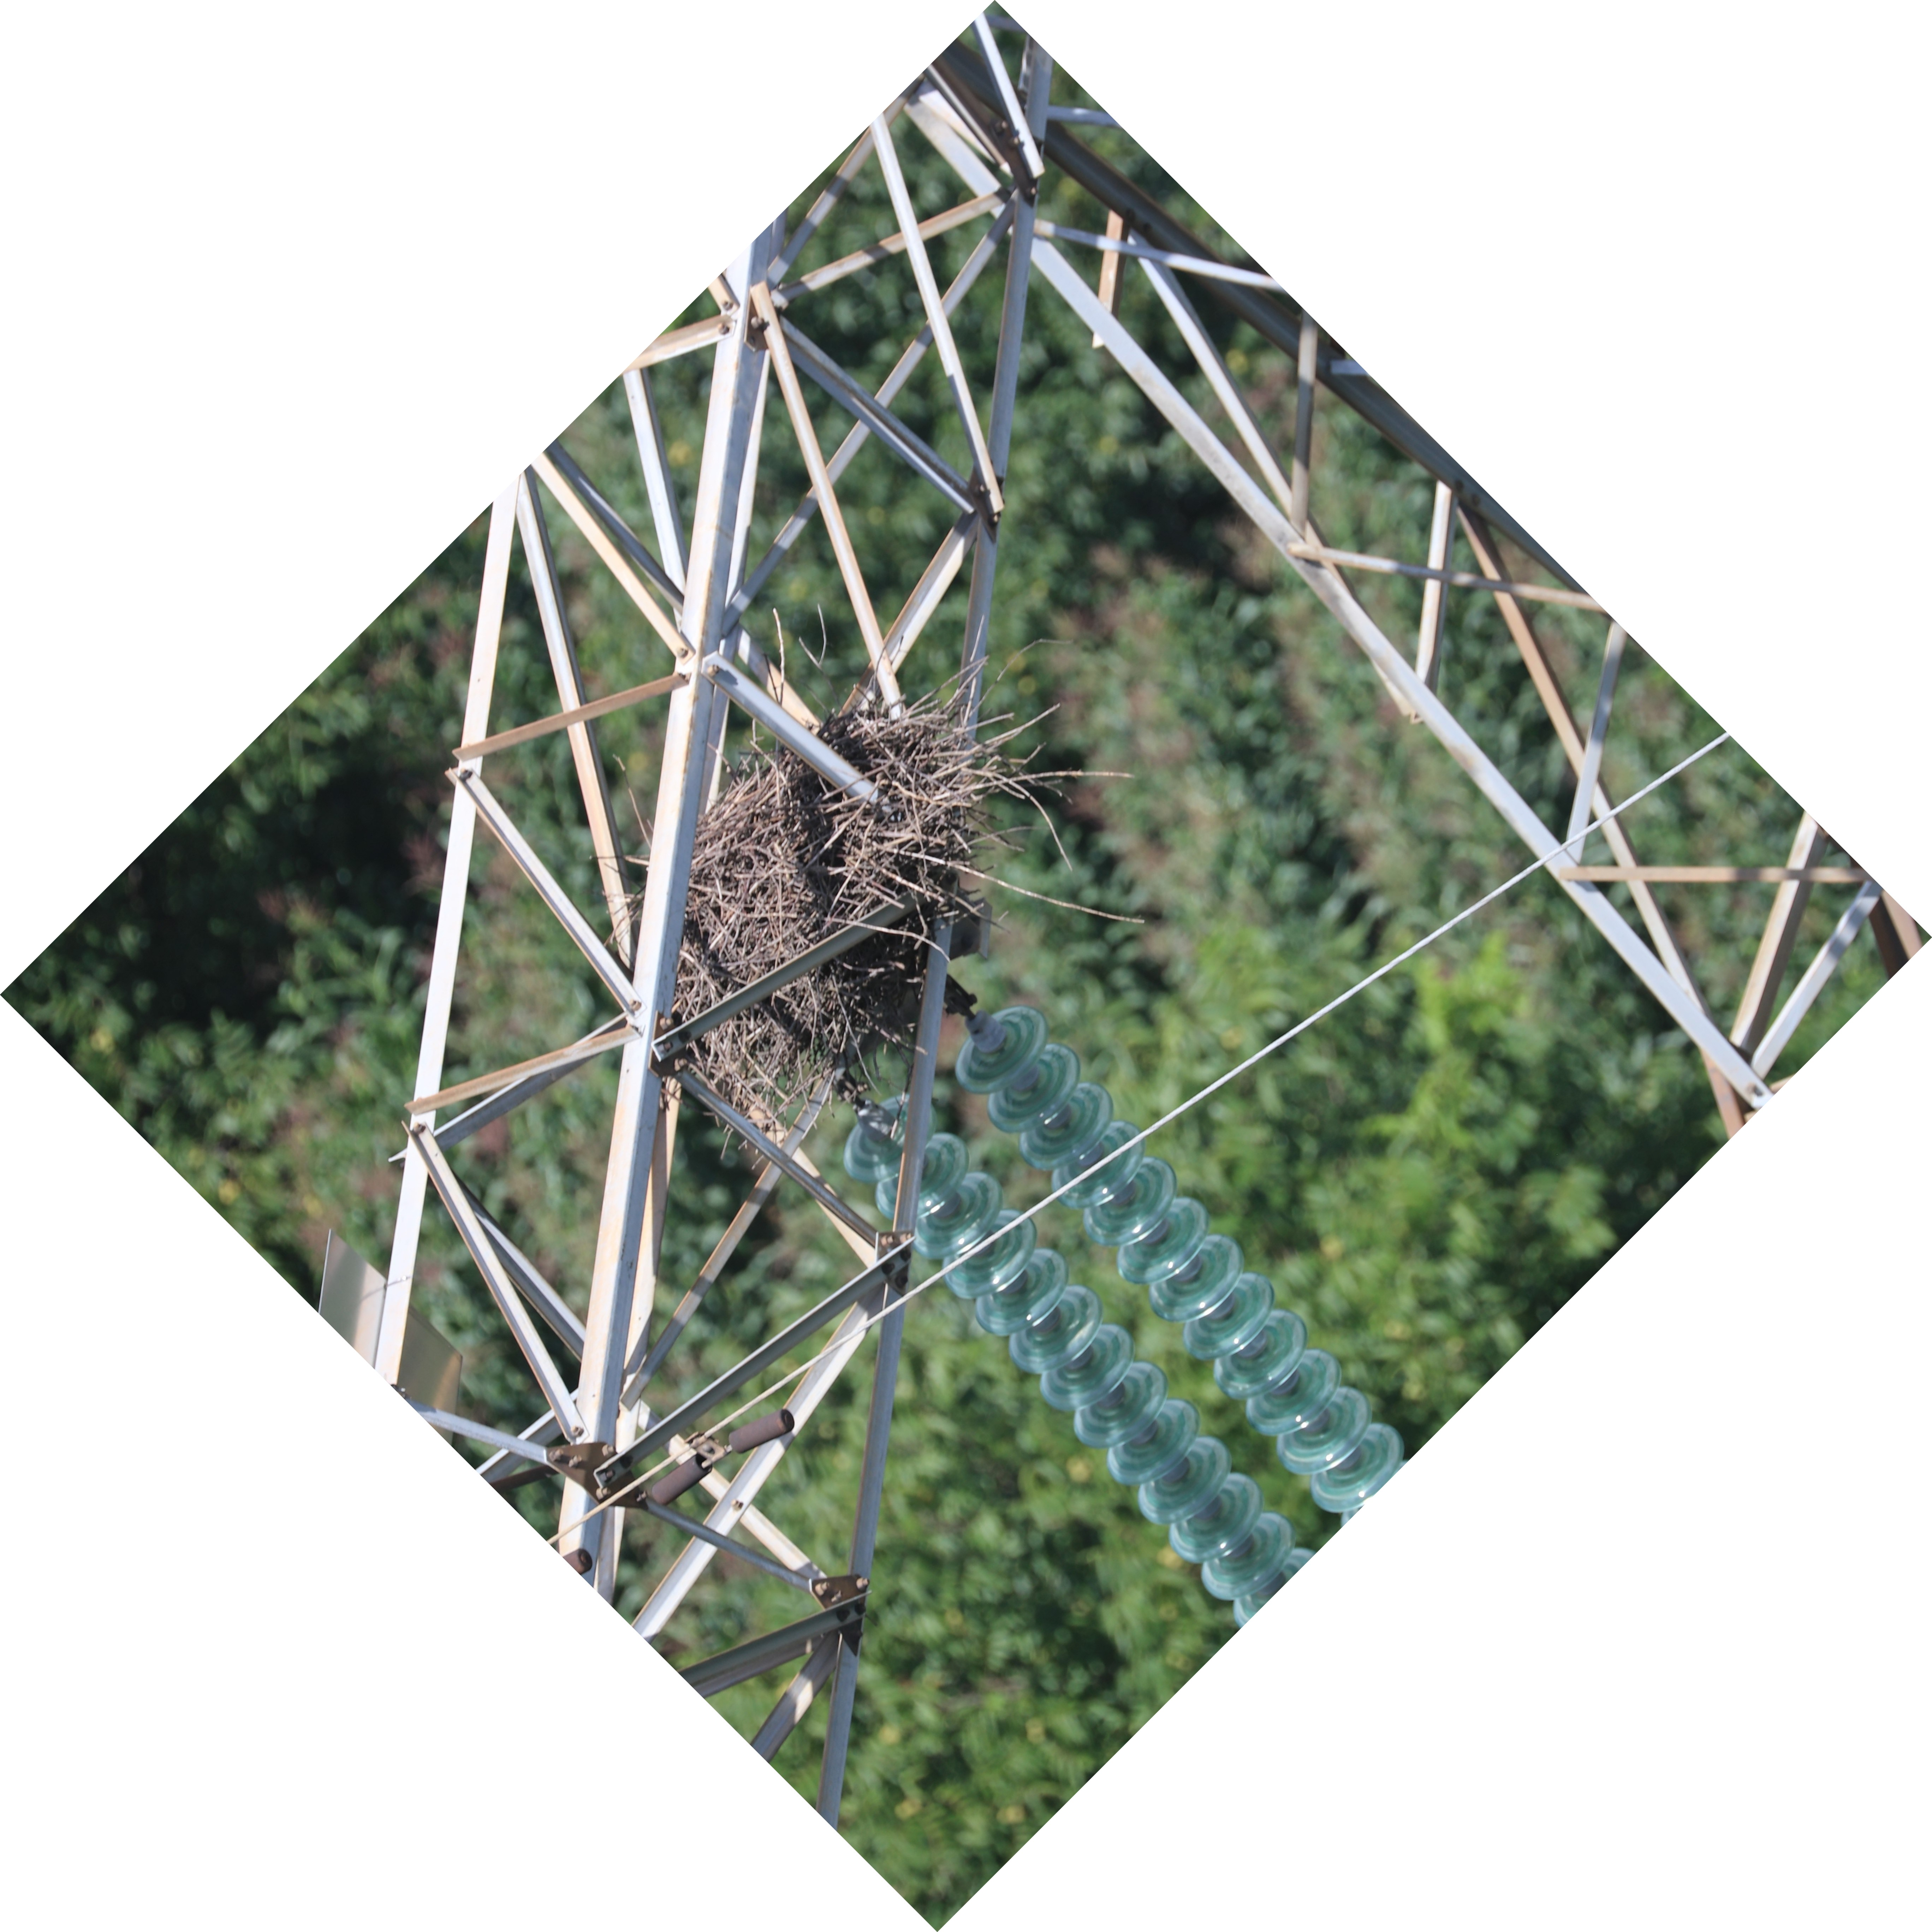niaowo: (577, 665, 1028, 1141)
